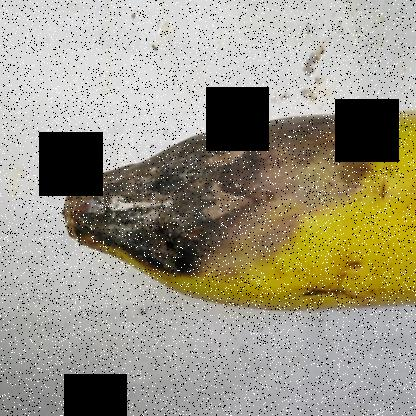rotten: (26, 84, 394, 325)
